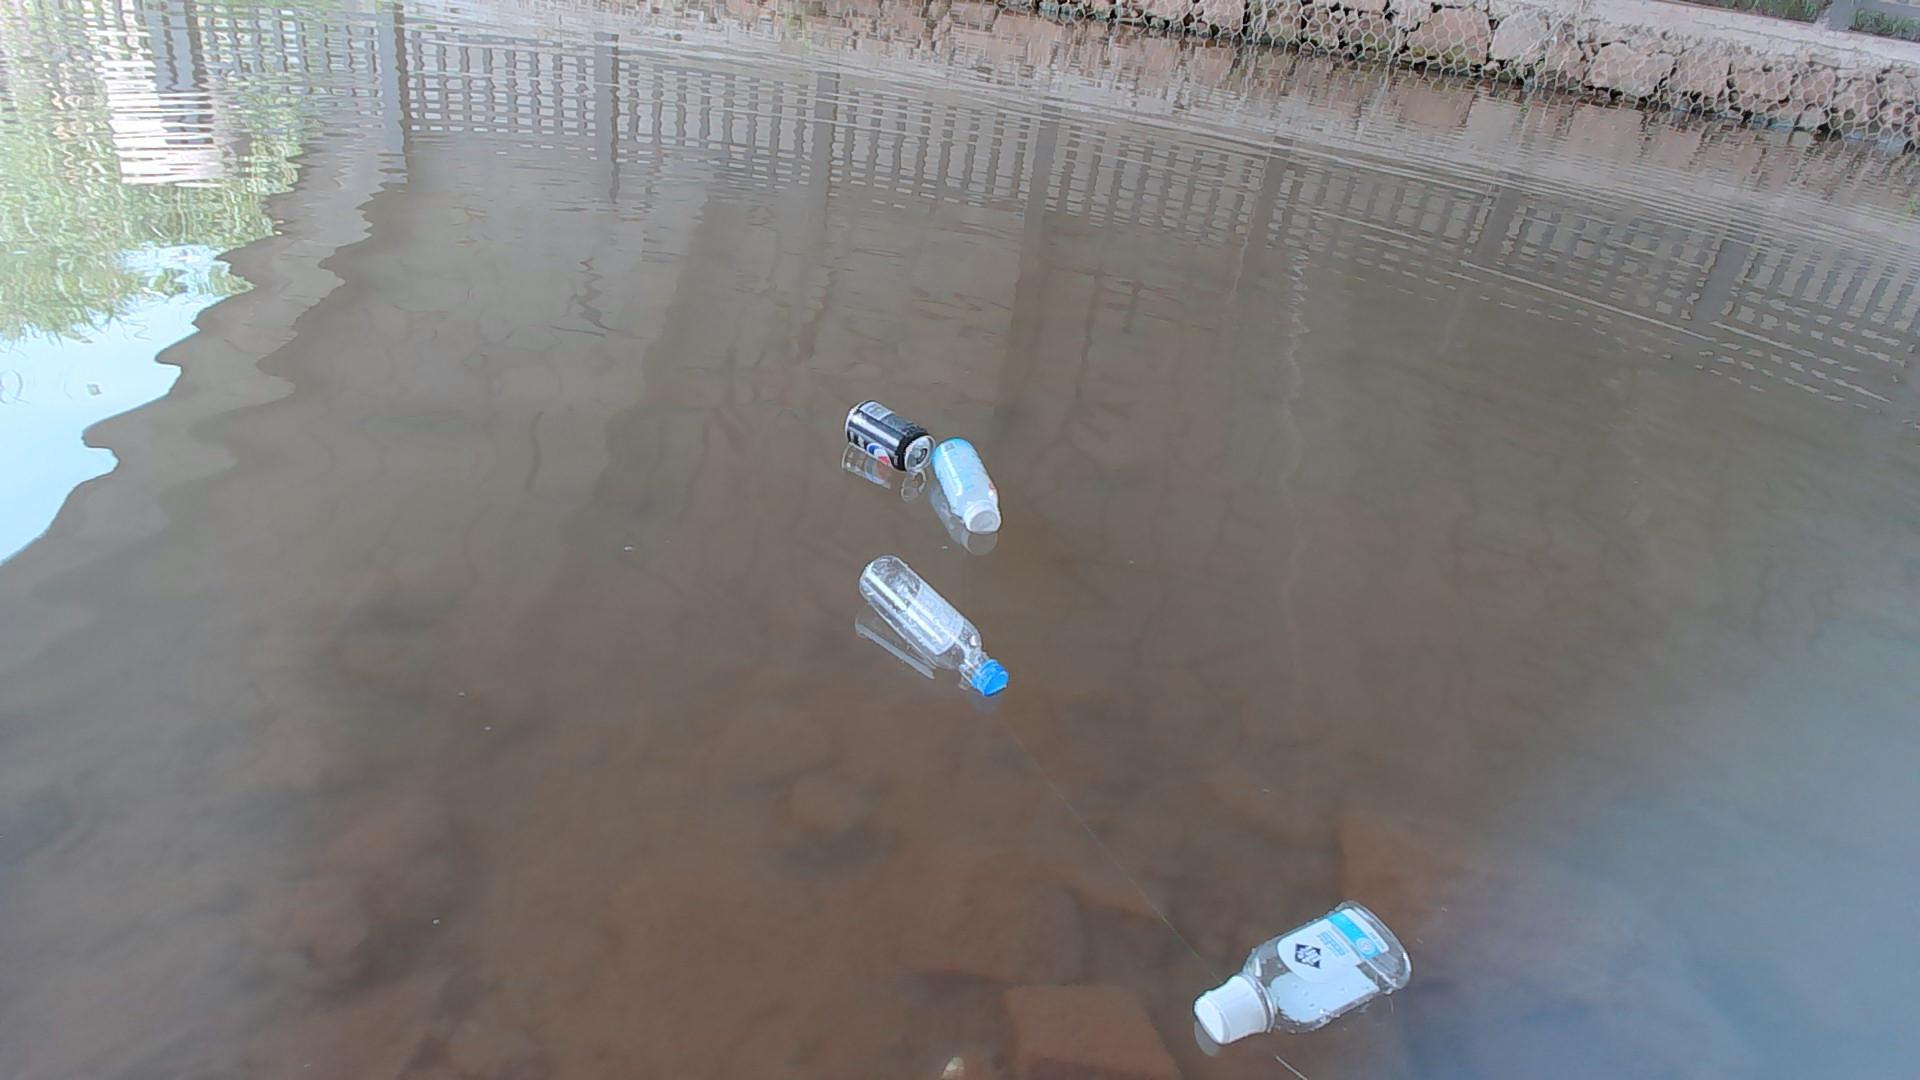Glass: (1189, 895, 1416, 1043), (861, 554, 1007, 702)
Metal: (844, 397, 932, 469)
Plastic: (931, 436, 1007, 537)
